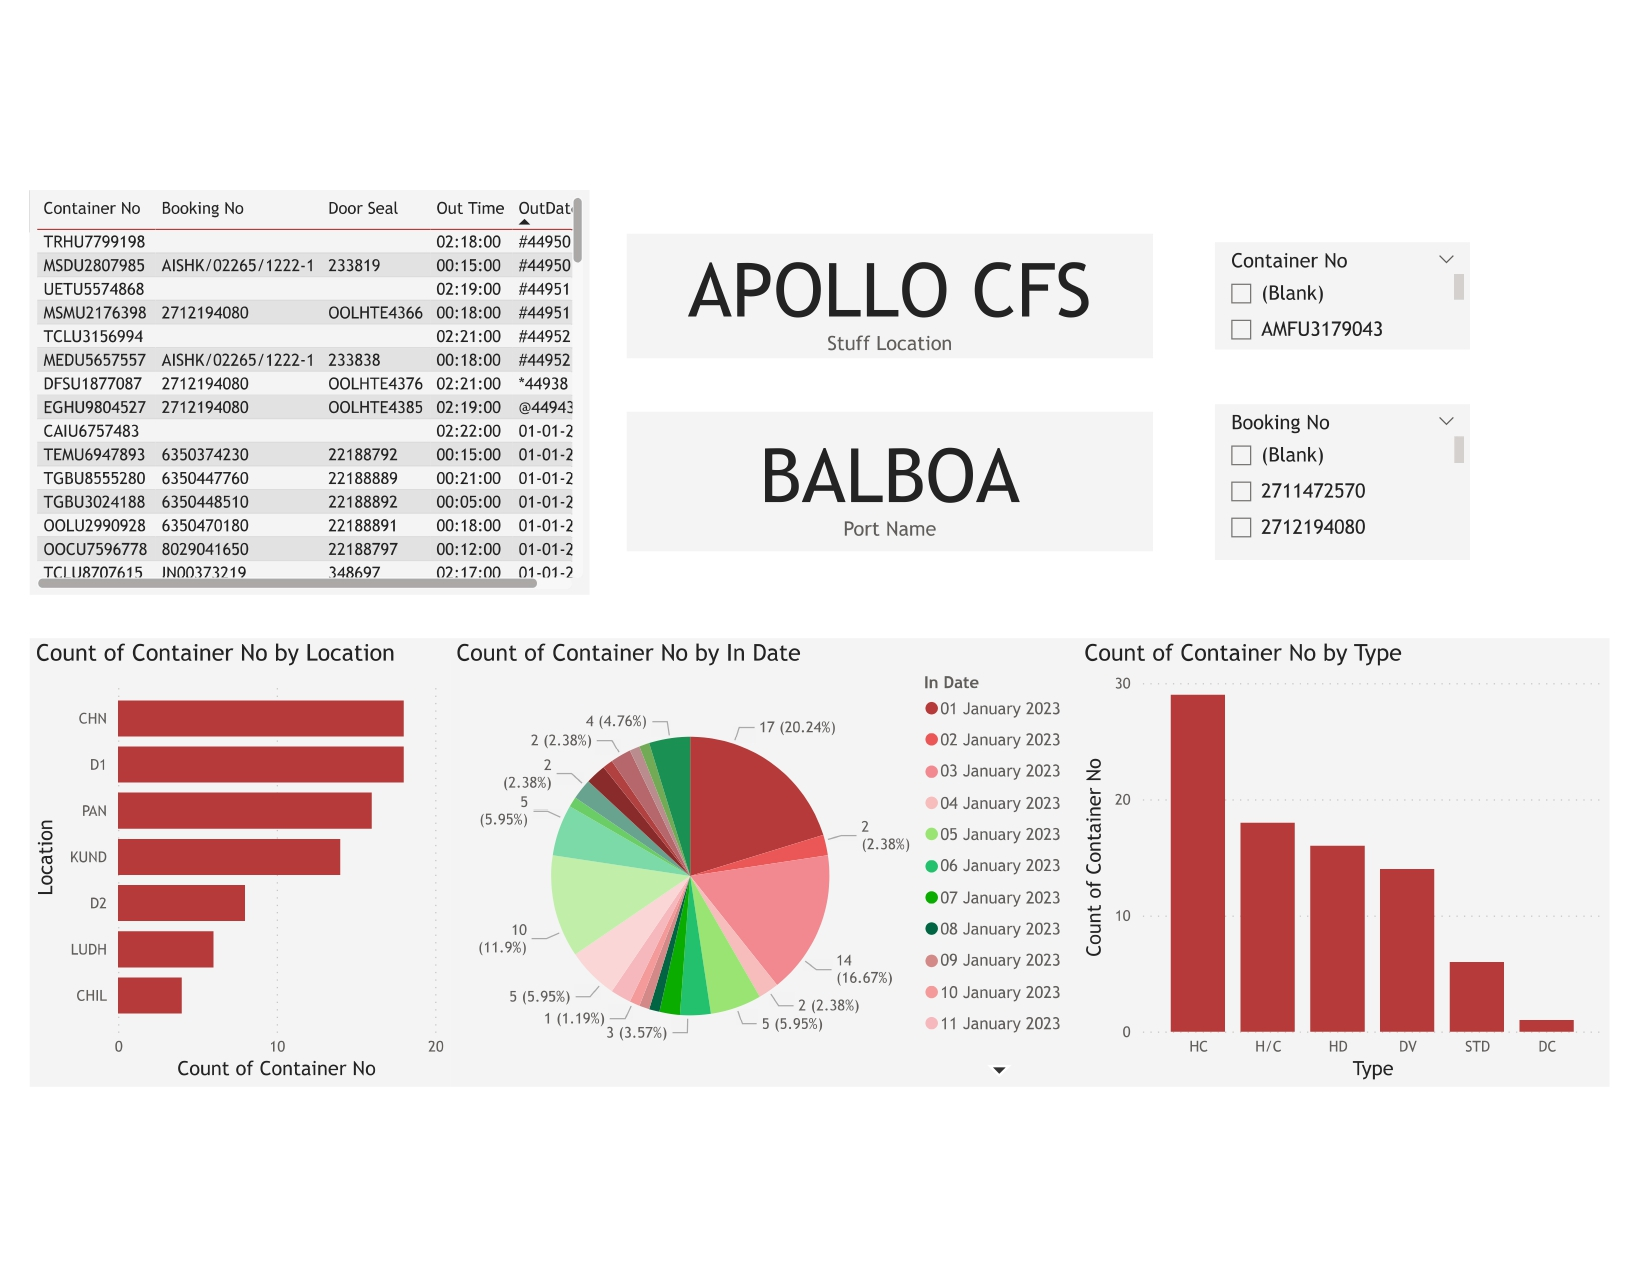

Layout of this report page (visuals, bound fields, positions):
{"tool":"powerbi","page":{"name":"Out","canvas":[1280,720],"ordinal":1},"visuals":[{"type":"barChart","fields":{"Y":["CountNonNull(OUT (2).Container No)"],"Category":["OUT (2).Location","OUT (2).Port"]},"box":[0,396,278,278],"z":0},{"type":"slicer","fields":{"Values":["OUT (2).Container No"]},"box":[1038,46,206,88],"z":1000},{"type":"card","fields":{"Values":["Min(OUT (2).Stuff Location)"]},"box":[534,54,422,100],"z":2000},{"type":"card","fields":{"Values":["Min(OUT (2).Port)"]},"box":[534,198,422,112],"z":3000},{"type":"tableEx","fields":{"Values":["OUT (2).Container No","OUT (2).Booking No","OUT (2).Door Seal","OUT (2).Out Time","OUT (2).OutDate"]},"box":[0,32,450,278],"z":4000},{"type":"pieChart","fields":{"Category":["OUT (2).In Date"],"Y":["Count(OUT (2).Container No)"]},"box":[338,378,506,316],"z":5000},{"type":"clusteredColumnChart","fields":{"Category":["OUT (2).Type"],"Y":["CountNonNull(OUT (2).Container No)"]},"box":[844,378,426,316],"z":6000},{"type":"slicer","fields":{"Values":["OUT (2).Booking No"]},"box":[1038,198,206,126],"z":6001}]}

Visuals, with their boxes on the page's 1280x720 design canvas (x1, y1, x2, y2). These are canvas units, not pixel positions in the 1650x1275 screenshot, which may show the page scaled, cropped or inside an application window:
barChart - CountNonNull(OUT (2).Container No) x OUT (2).Location: box(0, 396, 278, 674)
slicer - OUT (2).Container No: box(1038, 46, 1244, 134)
card - Min(OUT (2).Stuff Location): box(534, 54, 956, 154)
card - Min(OUT (2).Port): box(534, 198, 956, 310)
tableEx - OUT (2).Container No x OUT (2).Booking No: box(0, 32, 450, 310)
pieChart - OUT (2).In Date x Count(OUT (2).Container No): box(338, 378, 844, 694)
clusteredColumnChart - OUT (2).Type x CountNonNull(OUT (2).Container No): box(844, 378, 1270, 694)
slicer - OUT (2).Booking No: box(1038, 198, 1244, 324)
